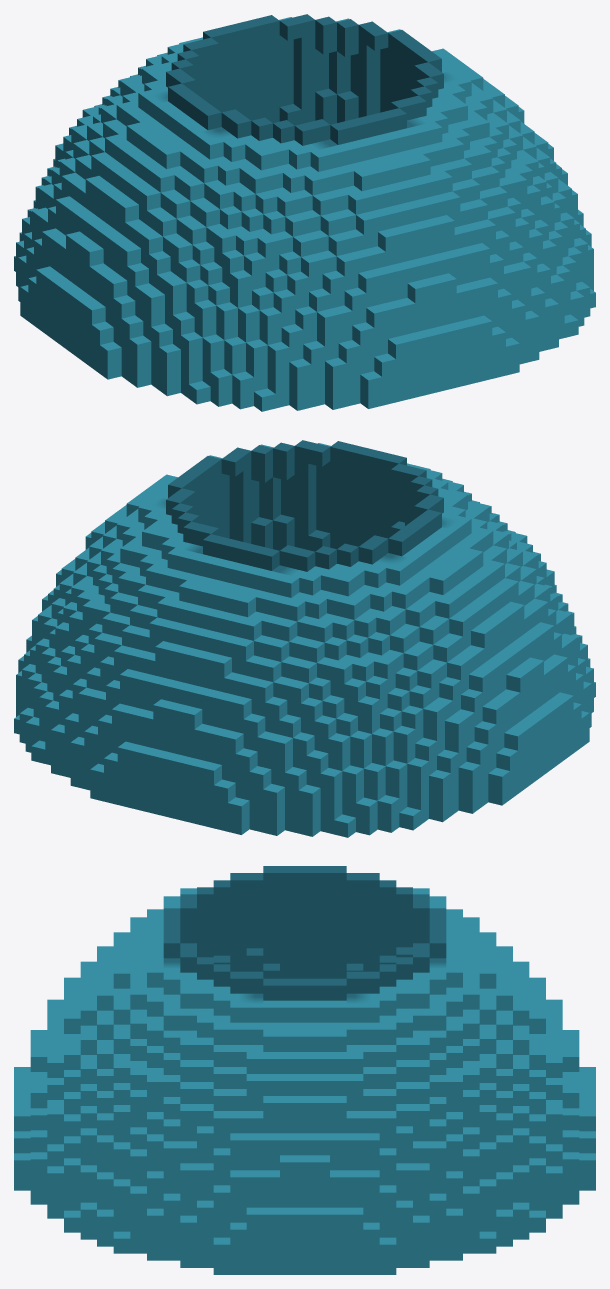
File: eye_house.fbx
3 renders of one model, top to bottom at view 1: azimuth 30°, elevation 25°; view 2: azimuth 150°, elevation 25°; view 3: azimuth 270°, elevation 25°, orthographic. The views are drawn at different scales.
Parts seen in each view (by area): view 1: eye_house; view 2: eye_house; view 3: eye_house.
Part boxes in pixels (left/top/right/bottom): eye_house: left=14, top=14, right=595, bottom=411; eye_house: left=14, top=440, right=595, bottom=837; eye_house: left=14, top=866, right=595, bottom=1274.
Size of the model in its own units: 35 by 15 by 35.
1 material, 1 textured.
